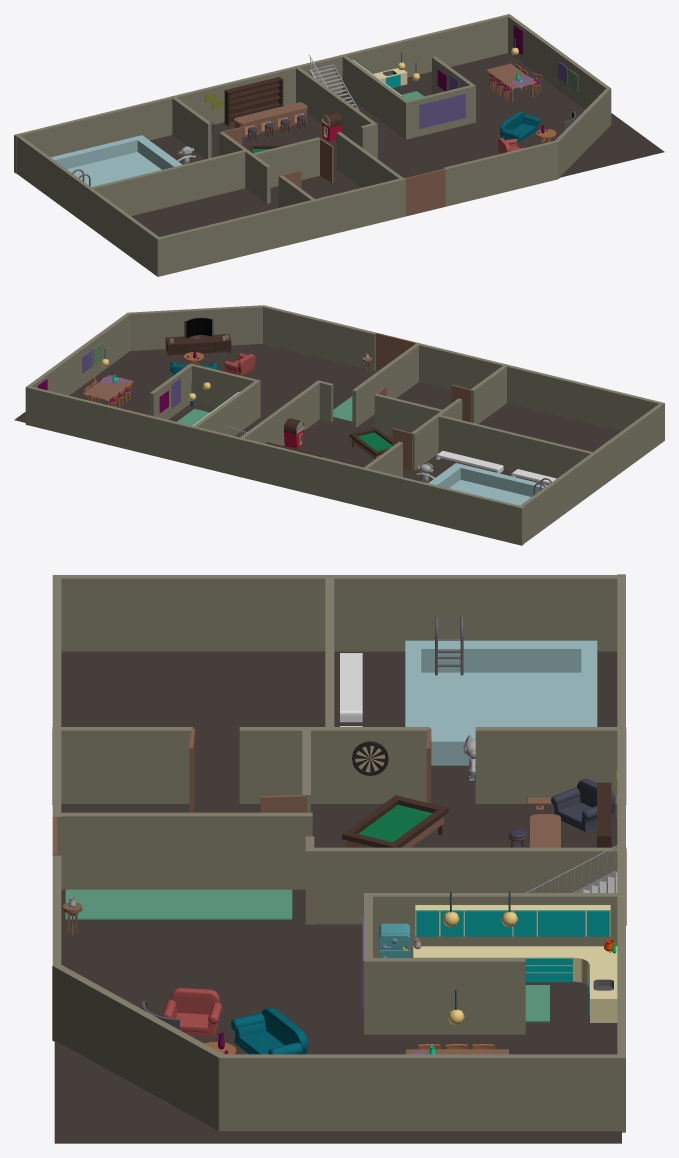
File: Level layout WITH textures.fbx
The picture shows the model from 3 angles, top to bottom: view 1: azimuth 30°, elevation 25°; view 2: azimuth 150°, elevation 25°; view 3: azimuth 270°, elevation 25°; orthographic projection. The views are drawn at different scales.
Parts seen in each view (by area): view 1: pPlane1, Wall_4, Wall_3, Wall_1, Wall_2, Wall_11, Wall_5, polySurface4, Wall_7, Wall_14, Wall_15, Wall_6 (+18 smaller); view 2: pPlane1, Wall_1, Wall_3, Wall_4, Wall_2, Wall_11, Wall_5, Wall_6, Wall_7, polySurface4, Wall_12, Wall_15 (+17 smaller); view 3: pPlane1, Wall_2, Wall_7, Wall_12, polySurface4, Wall_15, Wall_6, Wall_10, Wall_18, Wall_9, Wall_8, pCube5 (×2) (+16 smaller).
Boxes of the visible parts, left/top/right/bottom form: pPlane1: left=131, top=53, right=664, bottom=236; Wall_4: left=156, top=177, right=405, bottom=276; Wall_3: left=262, top=14, right=510, bottom=105; Wall_1: left=14, top=74, right=263, bottom=173; Wall_2: left=15, top=134, right=160, bottom=276; Wall_11: left=91, top=150, right=245, bottom=215; Wall_5: left=443, top=140, right=558, bottom=206; polySurface4: left=51, top=135, right=182, bottom=186; Wall_7: left=506, top=14, right=611, bottom=124; Wall_14: left=342, top=55, right=409, bottom=139; Wall_15: left=294, top=66, right=374, bottom=145; Wall_6: left=555, top=87, right=610, bottom=178; pPlane1: left=14, top=343, right=620, bottom=484; Wall_1: left=273, top=446, right=524, bottom=545; Wall_3: left=26, top=386, right=275, bottom=484; Wall_4: left=414, top=342, right=663, bottom=431; Wall_2: left=519, top=402, right=664, bottom=543; Wall_11: left=436, top=415, right=595, bottom=478; Wall_5: left=262, top=305, right=376, bottom=370; Wall_6: left=127, top=305, right=263, bottom=350; Wall_7: left=25, top=312, right=130, bottom=424; polySurface4: left=428, top=463, right=547, bottom=505; Wall_12: left=352, top=343, right=419, bottom=427; Wall_15: left=237, top=382, right=319, bottom=477; pPlane1: left=54, top=651, right=621, bottom=1143; Wall_2: left=53, top=575, right=621, bottom=651; Wall_7: left=218, top=1054, right=625, bottom=1132; Wall_12: left=53, top=812, right=312, bottom=889; polySurface4: left=405, top=640, right=597, bottom=765; Wall_15: left=314, top=847, right=626, bottom=925; Wall_6: left=52, top=963, right=225, bottom=1131; Wall_10: left=239, top=727, right=429, bottom=803; Wall_18: left=365, top=958, right=525, bottom=1034; Wall_9: left=52, top=727, right=192, bottom=804; Wall_8: left=475, top=727, right=626, bottom=804; pCube5 (×2): left=65, top=889, right=549, bottom=1022.
Bounding box in the file's own units: 821 × 90.24 × 402.
